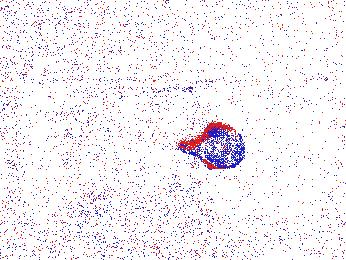flame jellyfish: (180, 127, 247, 168), (61, 192, 115, 240), (99, 184, 133, 226)
